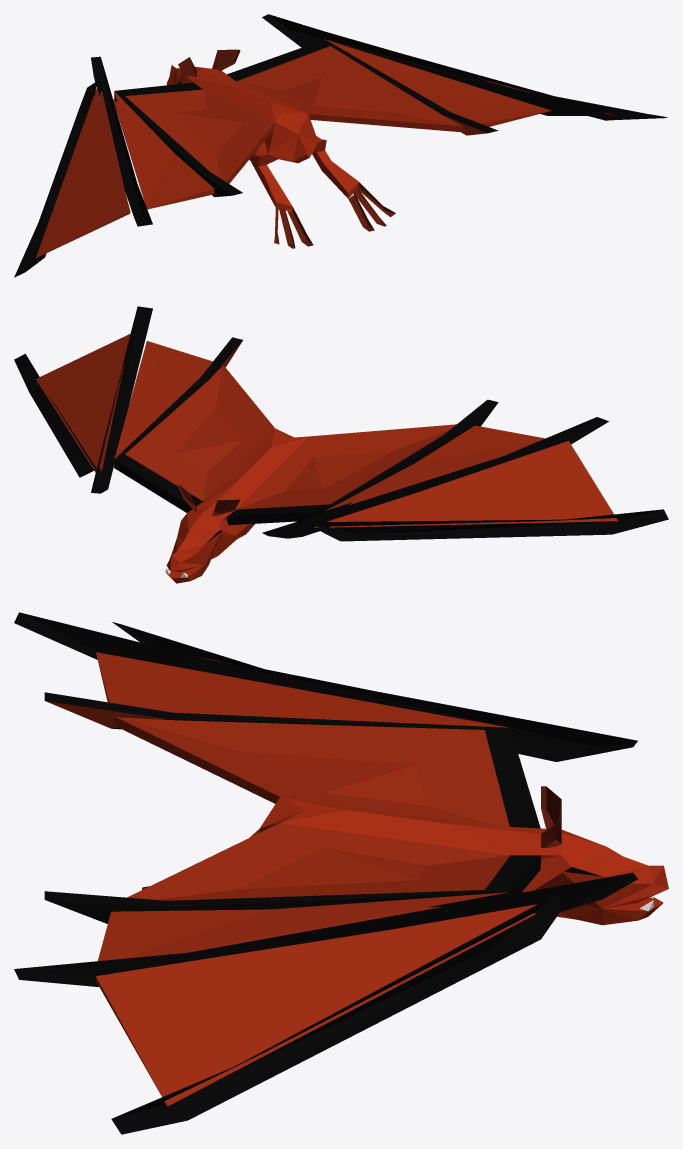
The model's file is npc_world_death_wing_0.obj.
3 renders of one model, top to bottom at view 1: azimuth 30°, elevation 25°; view 2: azimuth 150°, elevation 25°; view 3: azimuth 270°, elevation 25°, orthographic. The views are drawn at different scales.
Size of the model in its own units: 1.84 by 0.25 by 1.
